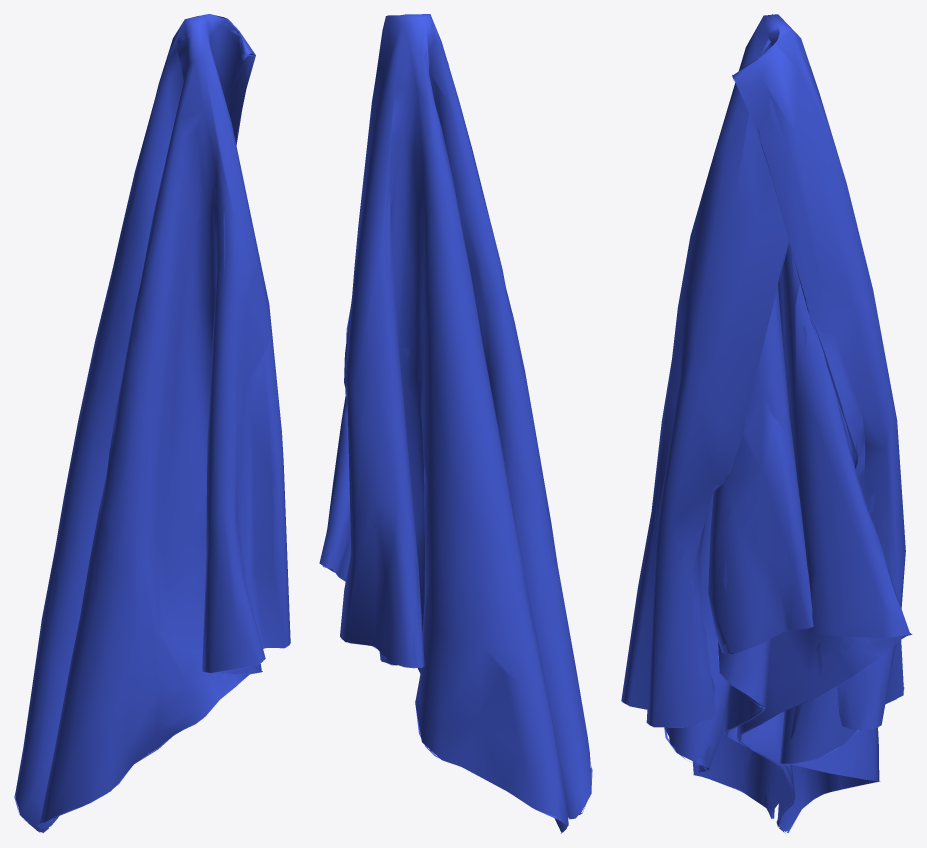
File: polotence.fbx
The picture shows the model from 3 angles, left to right: view 1: azimuth 30°, elevation 25°; view 2: azimuth 150°, elevation 25°; view 3: azimuth 270°, elevation 25°; orthographic projection. The views are drawn at different scales.
Visible parts, largest first — view 1: poloten; view 2: poloten; view 3: poloten.
Boxes of the visible parts, left/top/right/bottom form: poloten: left=14, top=14, right=290, bottom=832; poloten: left=319, top=14, right=592, bottom=833; poloten: left=621, top=14, right=912, bottom=833.
Bounding box in the file's own units: 25.62 × 92.43 × 27.15.
